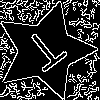T: (20, 25, 75, 80)
